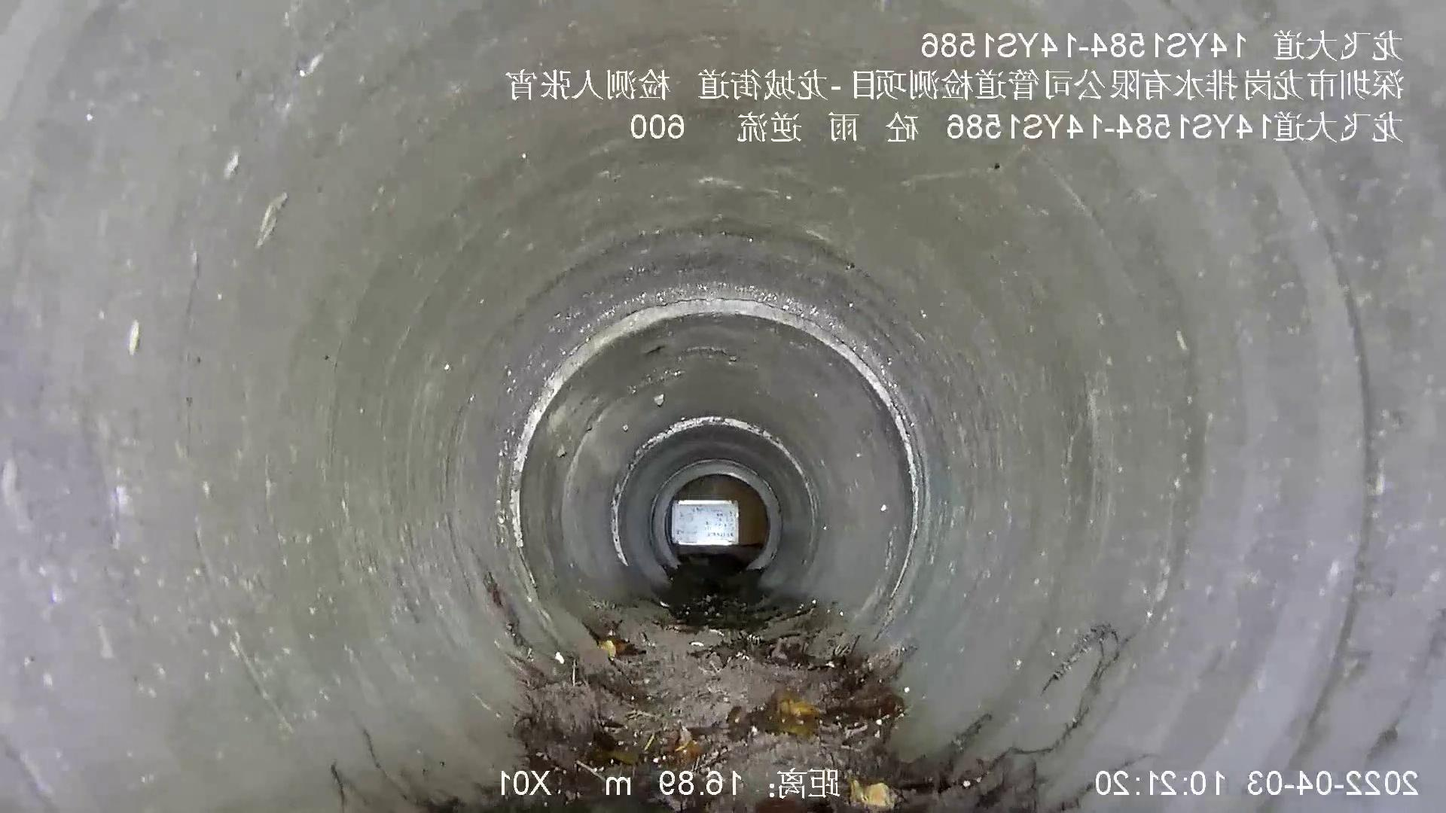CJ: (475, 561, 1036, 812)
CKTJ: (509, 297, 931, 599), (607, 414, 818, 570)
